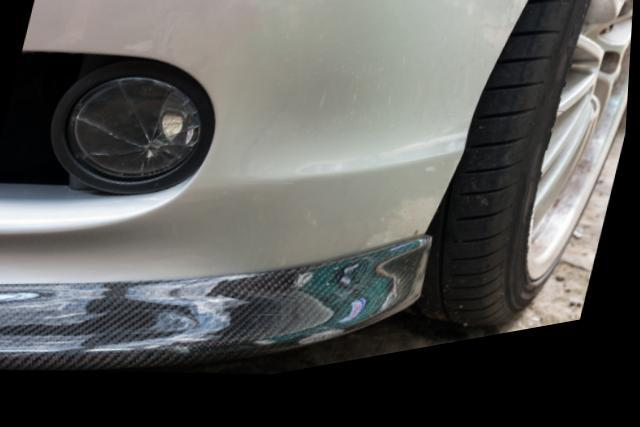lamp broken: (71, 83, 202, 185)
